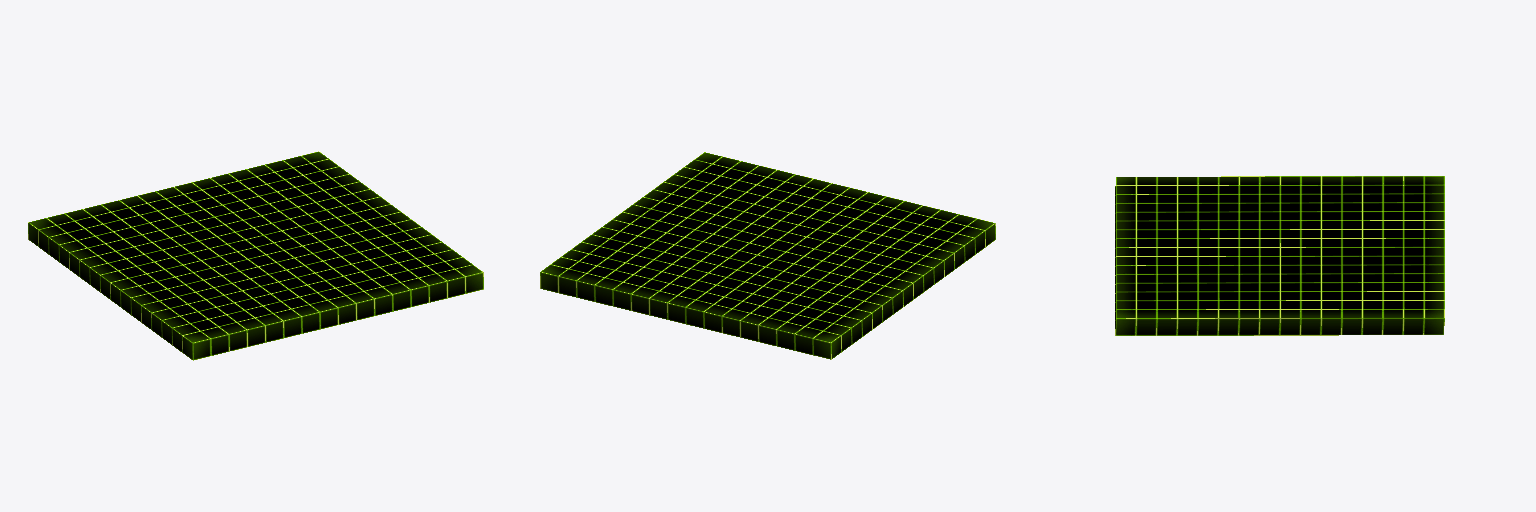
3 views of the same model, side by side, from view 1: azimuth 30°, elevation 25°; view 2: azimuth 150°, elevation 25°; view 3: azimuth 270°, elevation 25° (orthographic).
Visible parts, largest first — view 1: DrawCall_37; view 2: DrawCall_37; view 3: DrawCall_37.
Part boxes in pixels (x1,y1,x2,y2): DrawCall_37: (28, 151, 483, 360); DrawCall_37: (540, 152, 995, 359); DrawCall_37: (1115, 176, 1444, 335).
Bounding box in the file's own units: 48.85 × 2.84 × 47.92.
Materials: 1 (1 with a texture image).